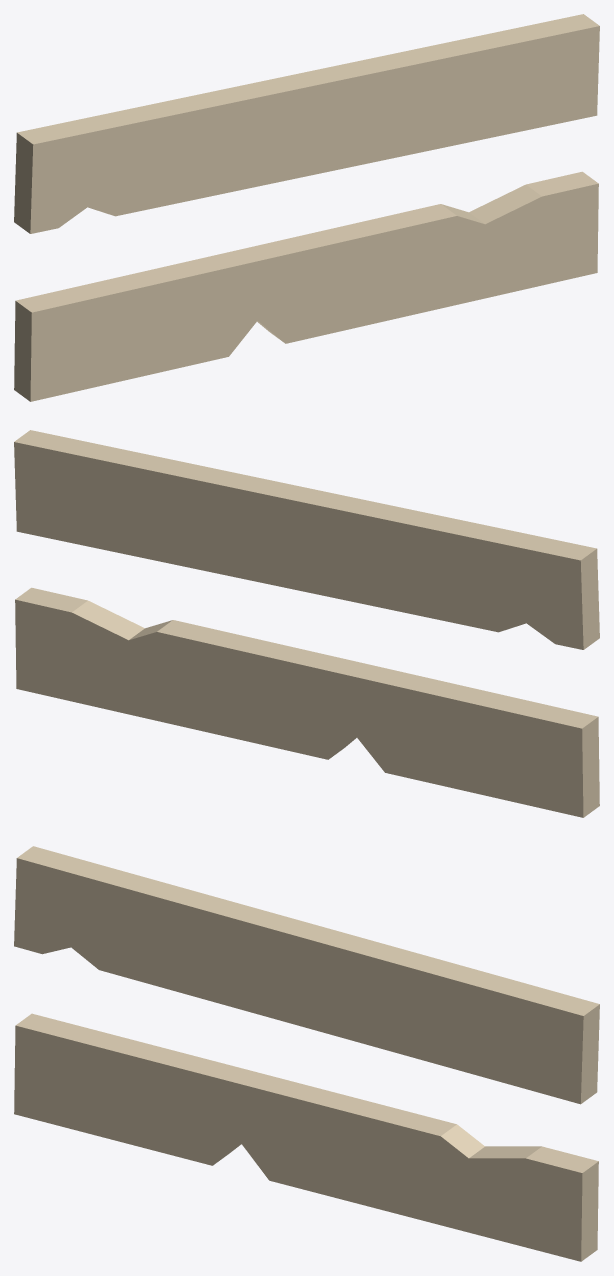
File: Prop_Fence_Boards_2.gltf
The picture shows the model from 3 angles, top to bottom: view 1: azimuth 30°, elevation 25°; view 2: azimuth 150°, elevation 25°; view 3: azimuth 330°, elevation 25°; orthographic projection.
Parts seen in each view (by area): view 1: object1, object2; view 2: object1, object2; view 3: object1, object2.
Boxes of the visible parts, left/top/right/bottom form: object1: left=14, top=14, right=599, bottom=233; object2: left=14, top=171, right=598, bottom=401; object1: left=14, top=430, right=599, bottom=649; object2: left=15, top=587, right=599, bottom=817; object1: left=14, top=846, right=599, bottom=1104; object2: left=14, top=1013, right=598, bottom=1261.
Size of the model in its own units: 1 by 0.4484 by 0.05.
